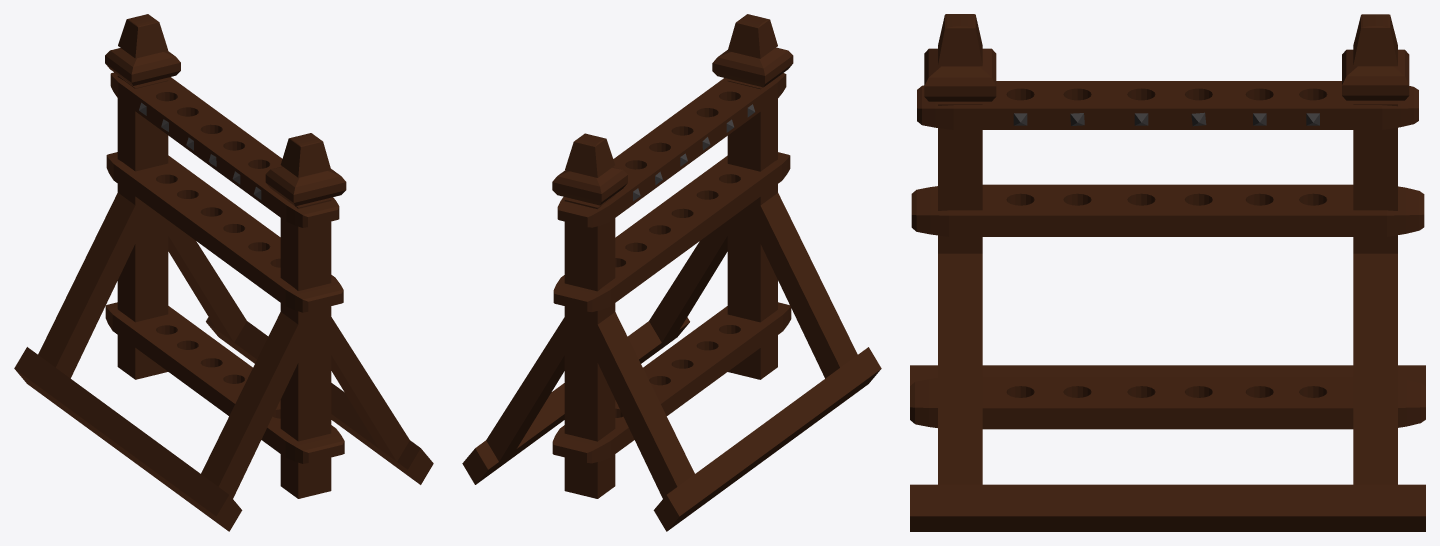
The model's file is Speer Ständer Ver 6.fbx.
3 renders of one model, left to right at view 1: azimuth 30°, elevation 25°; view 2: azimuth 150°, elevation 25°; view 3: azimuth 270°, elevation 25°, orthographic. The views are drawn at different scales.
Visible parts, largest first — view 1: Speer Ständer Ver 6; view 2: Speer Ständer Ver 6; view 3: Speer Ständer Ver 6.
Part boxes in pixels (x1,y1,x2,y2): Speer Ständer Ver 6: (14,14,433,531); Speer Ständer Ver 6: (462,14,881,531); Speer Ständer Ver 6: (910,14,1425,531).
Size of the model in its own units: 84.24 by 131 by 136.
